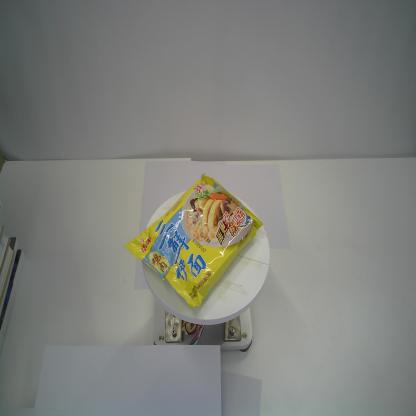Instant Noodles: (123, 173, 264, 308)
